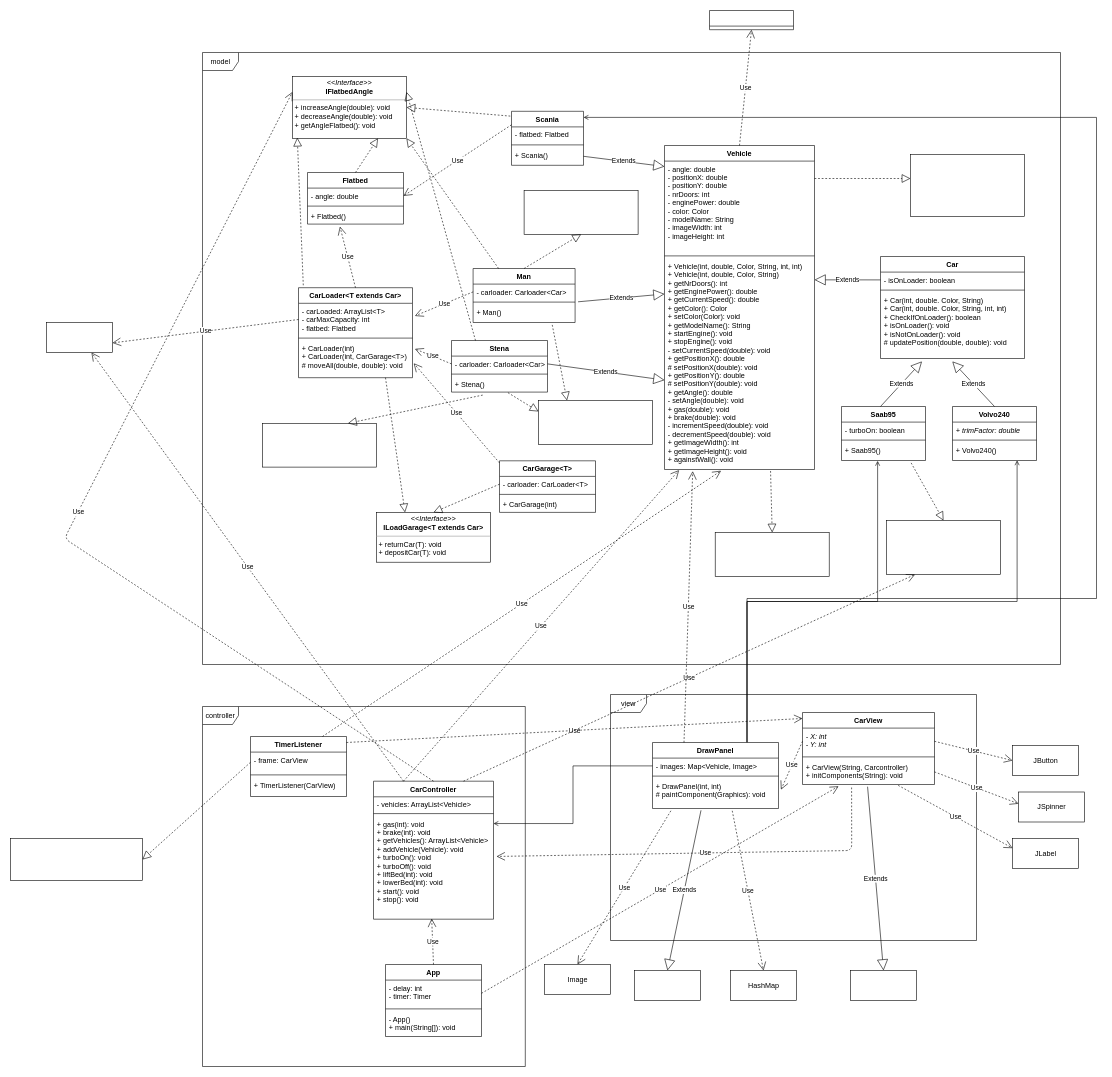
This 1112x1077 diagram has some shape labels left out. Here are the shapes that lost their labels. From the top down, the centre of each, then its label:
At point (751, 20): "Color".
At point (967, 185): "<<Interface>> Movable + move(): void + turnLeft(): void + turnRight(): void".
At point (581, 212): "<<Interface>> ILoadCarTruck + unloadLastCar(): void".
At point (79, 337): "ArrayList".
At point (595, 422): "<<Interface>> ILoadCar<T extends Car> + loadCar(T): void".
At point (319, 445): "<<Interface>> ILoadCarFerry + unloadFirstCar(): Void".
At point (772, 554): "<<Interface>> ISpeed + speedFactor(): double".
At point (943, 547): "<<Interface>> ITurbo + setTurboOn(): void + setTurboOff(): void".
At point (76, 859): "<<Interface>> ActionListener - actionPerformed(ActionEvent): void".
At point (667, 985): "JPanel".
At point (883, 985): "JFrame".
